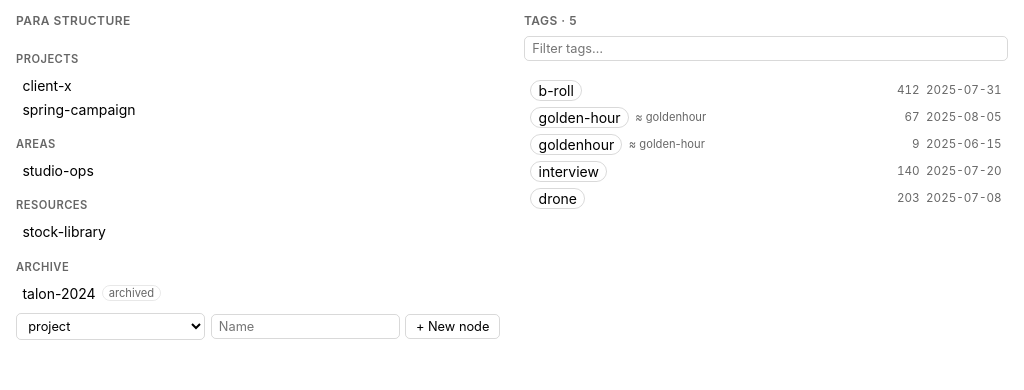
Test: a nameless new node is never sent
Expected: the list named "Projects" is shown, [16,74,500,121]
Click the button "+ New node": (453,326) [405,314,500,339]
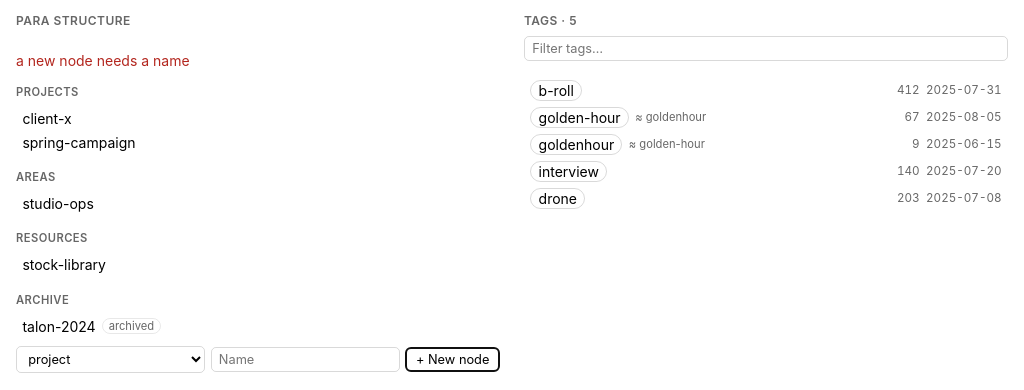
Expected: the message shows "needs a name", [16,52,190,69]
